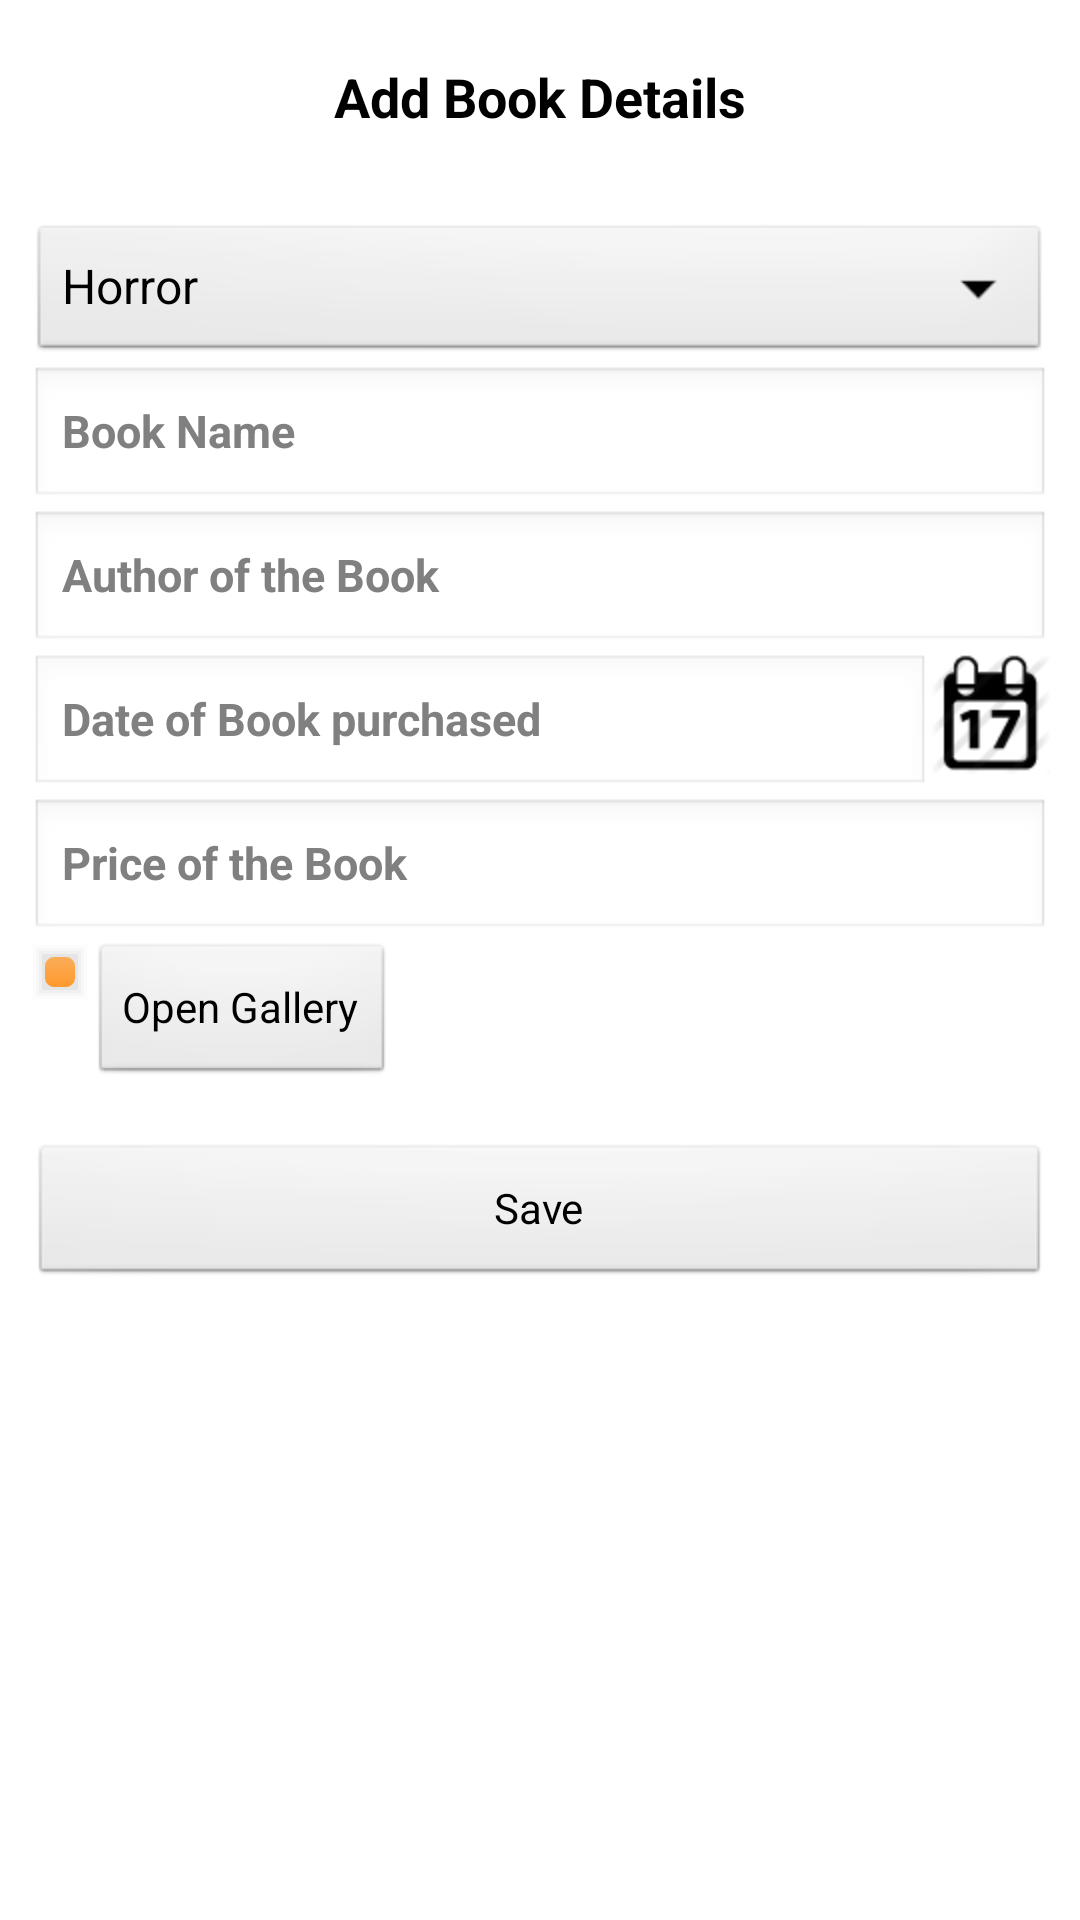

Screen size 1080x1920. Icon name, then its box in pixels as (x1, y1, x2, y2):
calender: (943, 655, 1039, 771)
